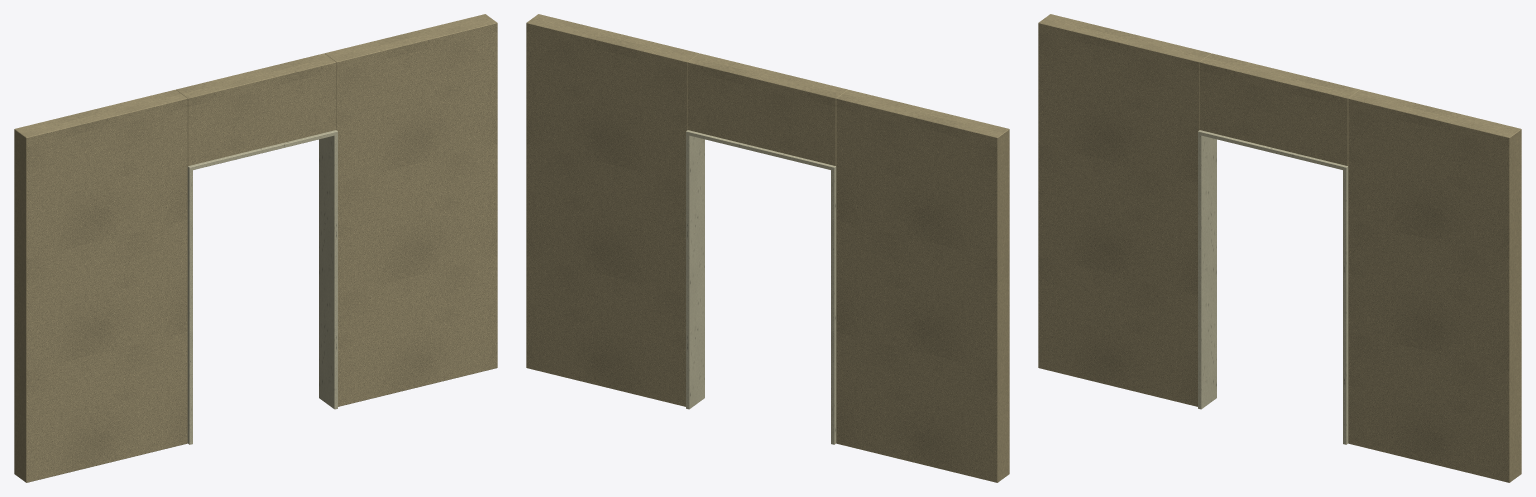
File: service_doorway_4m.glb
3 views of the same model, side by side, from view 1: azimuth 30°, elevation 25°; view 2: azimuth 150°, elevation 25°; view 3: azimuth 330°, elevation 25° (orthographic).
Visible parts, largest first — view 1: service_doorway_4m; view 2: service_doorway_4m; view 3: service_doorway_4m.
Boxes of the visible parts, <box> form: service_doorway_4m: <box>14,14,497,482</box>; service_doorway_4m: <box>526,14,1009,482</box>; service_doorway_4m: <box>1038,14,1521,482</box>.
Bounding box in the file's own units: 4 × 2.8 × 0.23.
2 materials, 2 textured.
